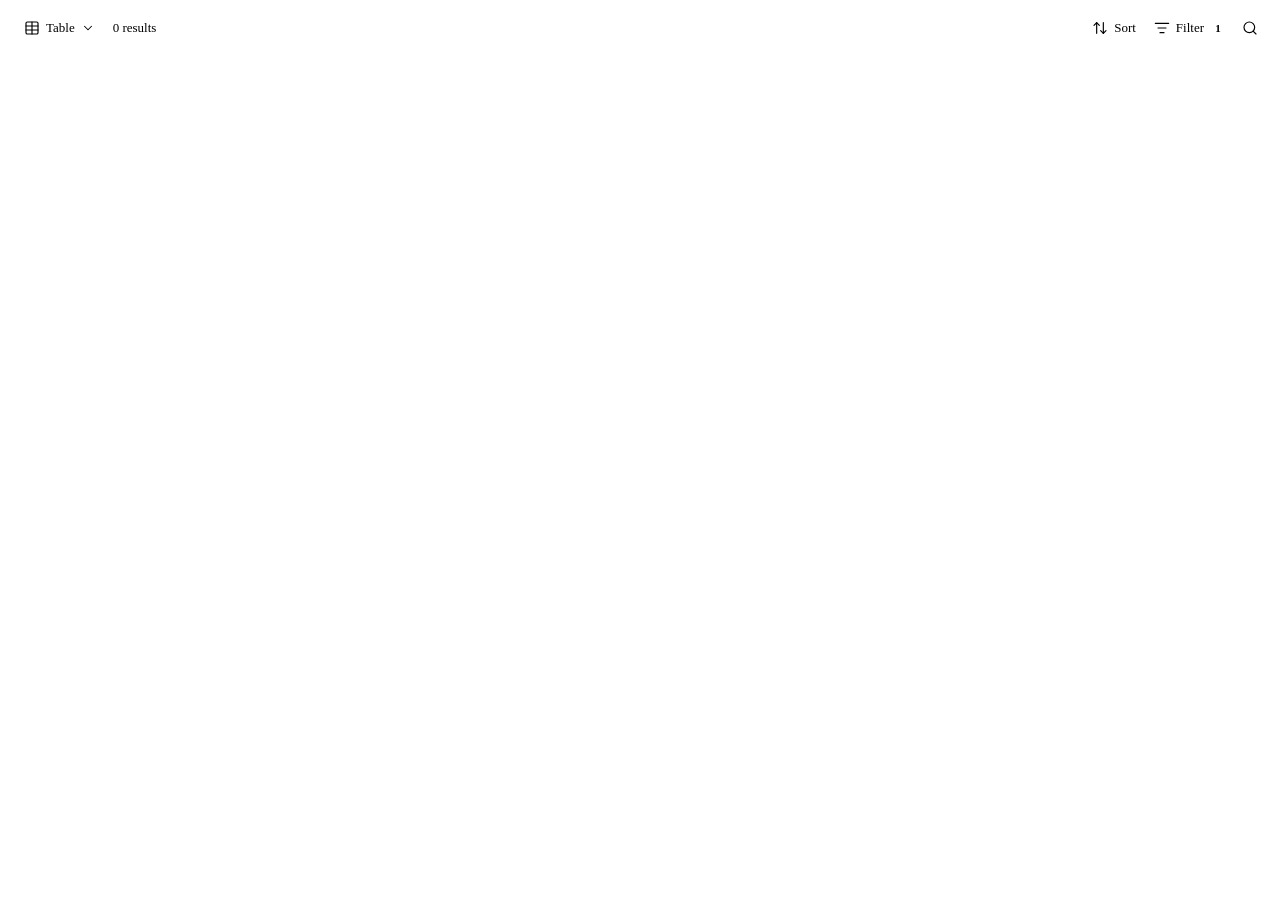
Test: Filter popover rows (#617) › a link-count filter the rows can't show stays a chip, and the link rows aren't offered
Later steps or results of the test are not shown.
Click the button "Filter 1".
click(1190, 28)  # box [1146,14,1234,42]
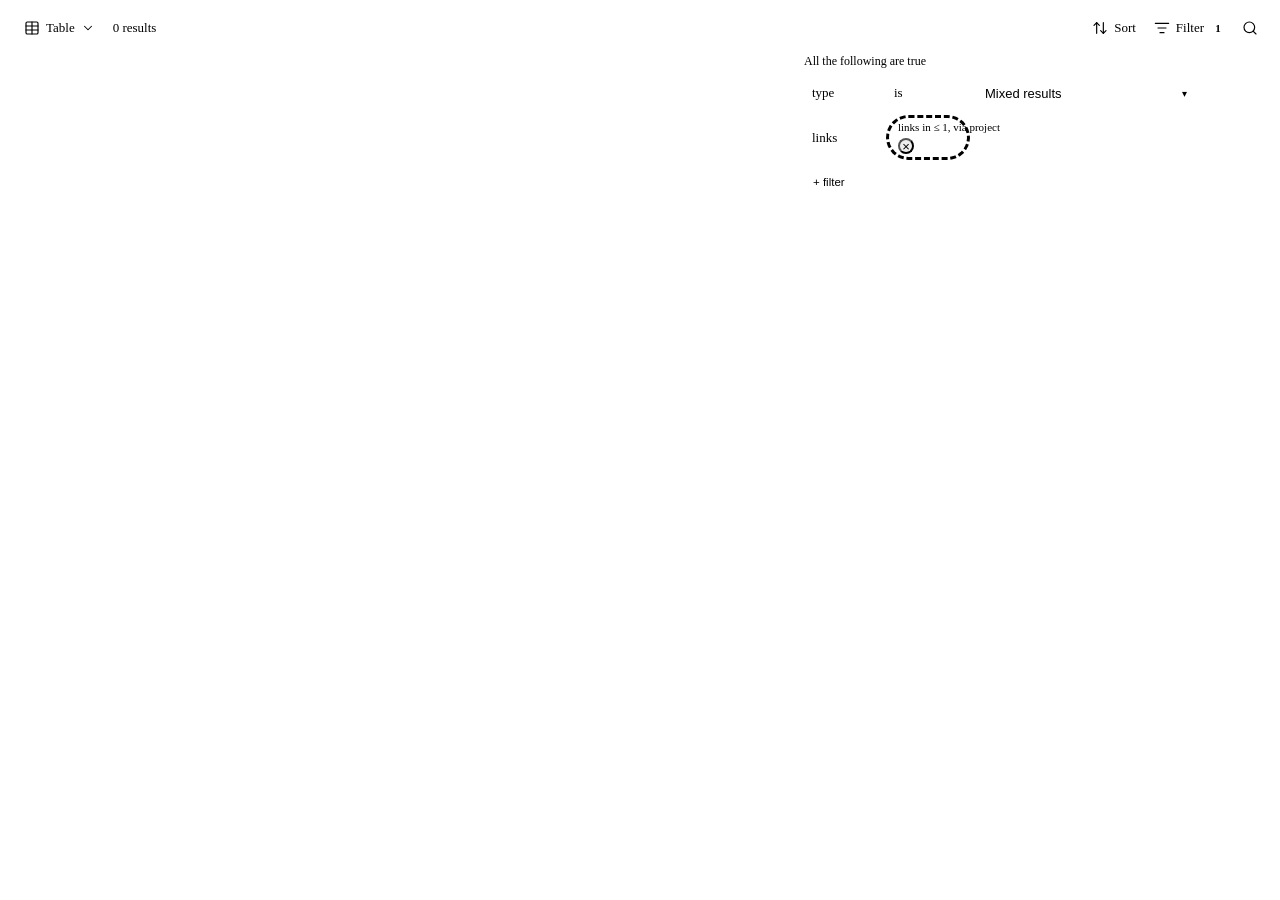
Now the button named "remove filter links in ≤ 1, via project" is shown, box [898,138,914,154]
